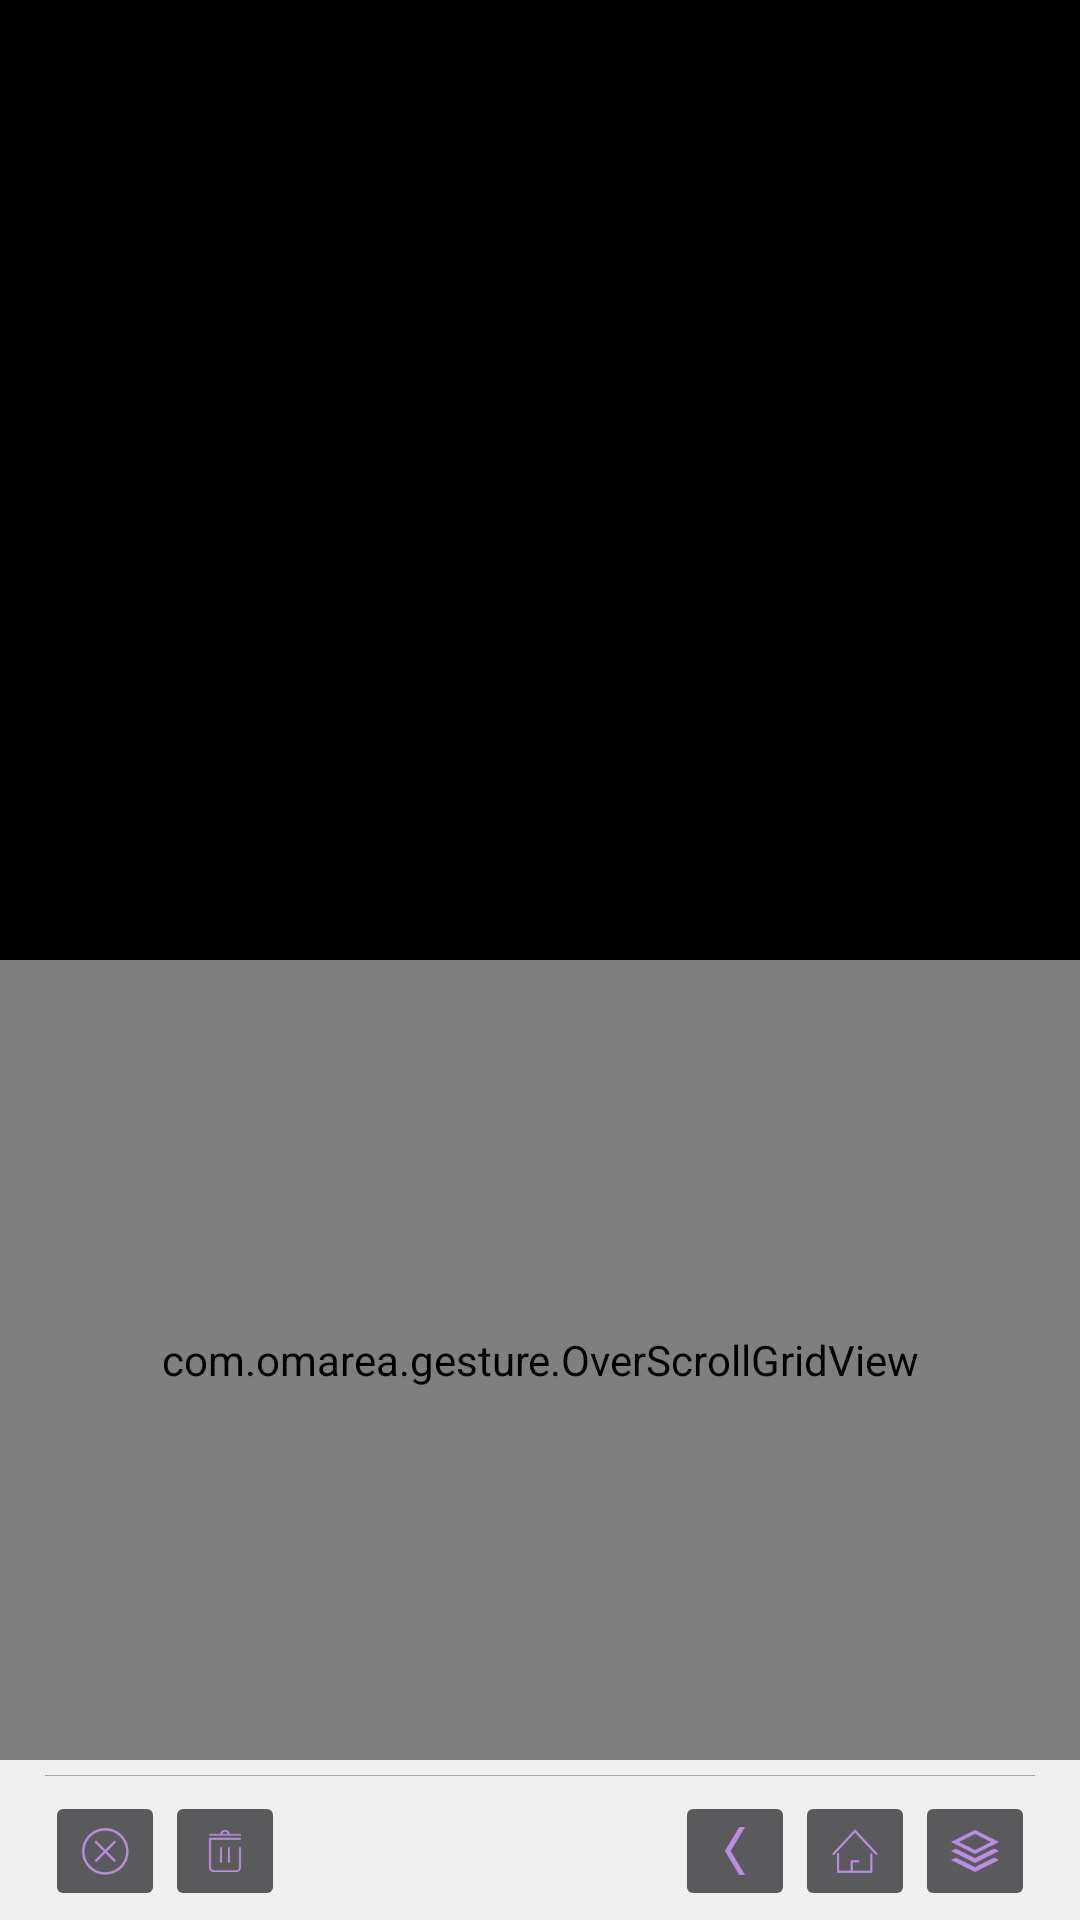

Point at icon controls on the screen. Image size 1080w x 1920h, points as (x=x, y=y).
close: (x=105, y=1851)
touch arrow left: (x=735, y=1851)
touch home: (x=855, y=1851)
touch tasks: (x=975, y=1851)
trash: (x=225, y=1851)
